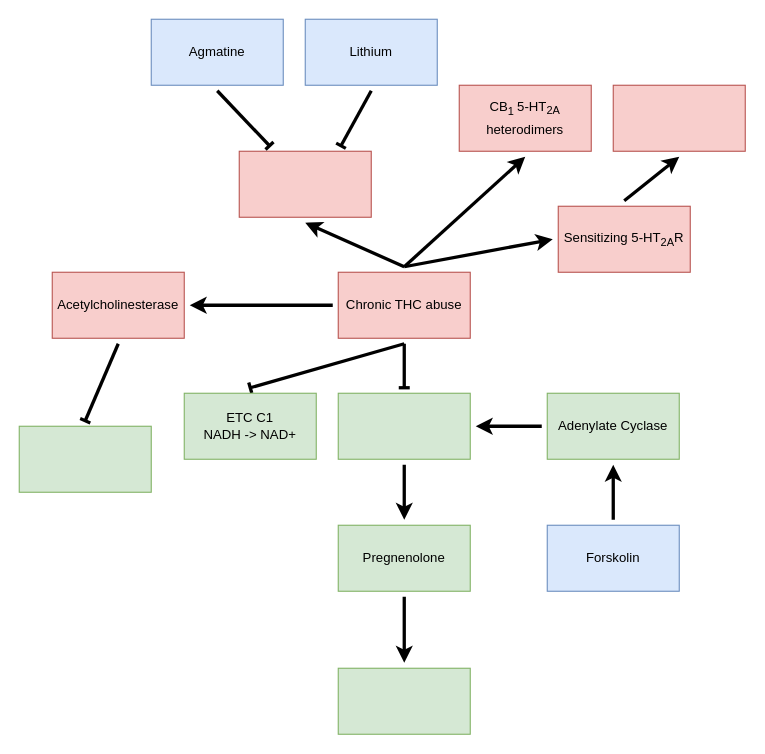
The diagram is 765 pixels wide and 754 high, and some of its shapes have lost their labels. The centre of each missing label's shape, as x and y in pixels:
"Acetylcholine" belongs at (84,458).
"cAMP" belongs at (403,425).
"GSK-3β" belongs at (304,183).
"progestogens androgens estrogens glucocorticoids mineralocorticoids" belongs at (403,700).
"Schizophrenia" belongs at (678,117).
